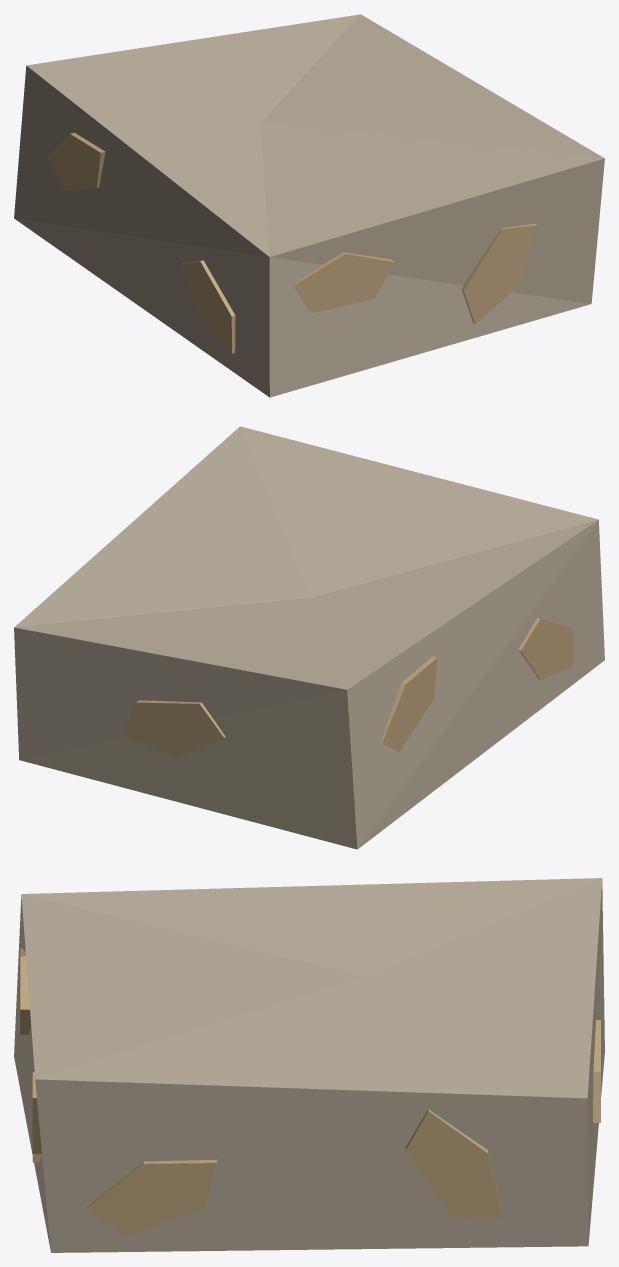
Rendered from SM_HoneyNougat.fbx.
The picture shows the model from 3 angles, top to bottom: view 1: azimuth 30°, elevation 25°; view 2: azimuth 150°, elevation 25°; view 3: azimuth 270°, elevation 25°; orthographic projection. The views are drawn at different scales.
Parts seen in each view (by area): view 1: Honey_Nougat; view 2: Honey_Nougat; view 3: Honey_Nougat.
Part boxes in pixels (bbox=[...]): Honey_Nougat: bbox=[14, 14, 604, 397]; Honey_Nougat: bbox=[14, 426, 604, 849]; Honey_Nougat: bbox=[14, 878, 604, 1252].
Size of the model in its own units: 0.1386 by 0.0568 by 0.1688.
